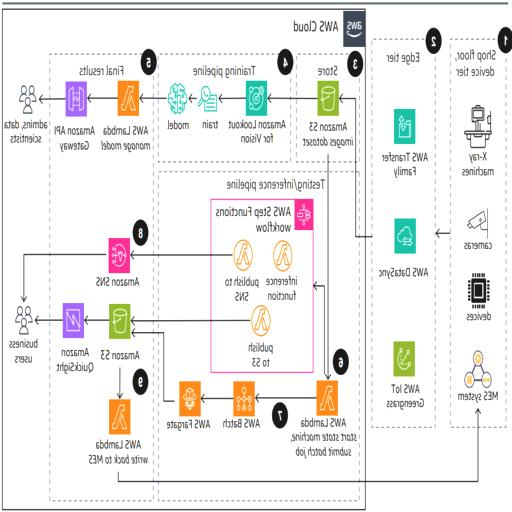actor: (461, 118, 502, 169), (461, 200, 502, 251), (10, 77, 51, 128), (461, 272, 502, 322), (461, 364, 502, 414), (10, 308, 51, 358)
api_gateway: (62, 82, 92, 123)
compute: (240, 82, 272, 123), (230, 374, 262, 414), (389, 364, 420, 404), (169, 374, 200, 414), (318, 374, 348, 414), (108, 400, 138, 440), (243, 312, 269, 354), (64, 312, 90, 354), (110, 82, 136, 123), (268, 236, 294, 276), (218, 236, 244, 276), (110, 236, 136, 276), (192, 90, 218, 116), (161, 90, 187, 116), (297, 204, 317, 236)
data_flow: (123, 420, 481, 481), (31, 256, 123, 307), (307, 126, 338, 254), (128, 333, 169, 394), (328, 126, 338, 356), (364, 105, 374, 233), (308, 312, 328, 374), (133, 251, 215, 261), (133, 328, 215, 338), (118, 354, 128, 394), (271, 389, 302, 399), (282, 98, 312, 108), (436, 226, 456, 236), (369, 230, 389, 240), (344, 98, 364, 108), (220, 98, 240, 108), (138, 98, 158, 108), (41, 98, 61, 108), (246, 251, 266, 261), (205, 389, 225, 399), (88, 328, 108, 338), (41, 328, 61, 338), (182, 98, 197, 108), (90, 98, 105, 108)
database_storage: (108, 312, 138, 354), (318, 82, 348, 123)
network_security: (389, 210, 420, 251), (389, 108, 420, 148)
trust_boundary: (6, 13, 364, 499), (164, 166, 358, 500), (56, 26, 158, 486), (374, 28, 435, 464), (456, 28, 507, 464), (215, 200, 317, 364), (166, 56, 294, 158), (305, 56, 361, 158)
